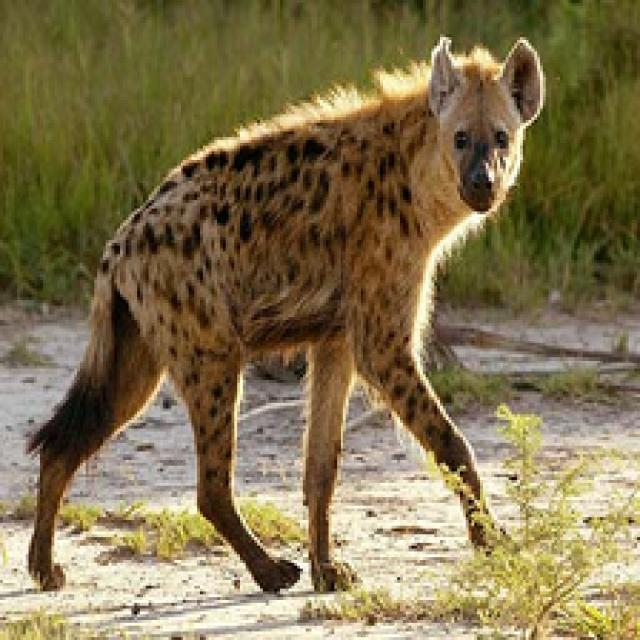hyena: (29, 15, 564, 617)
